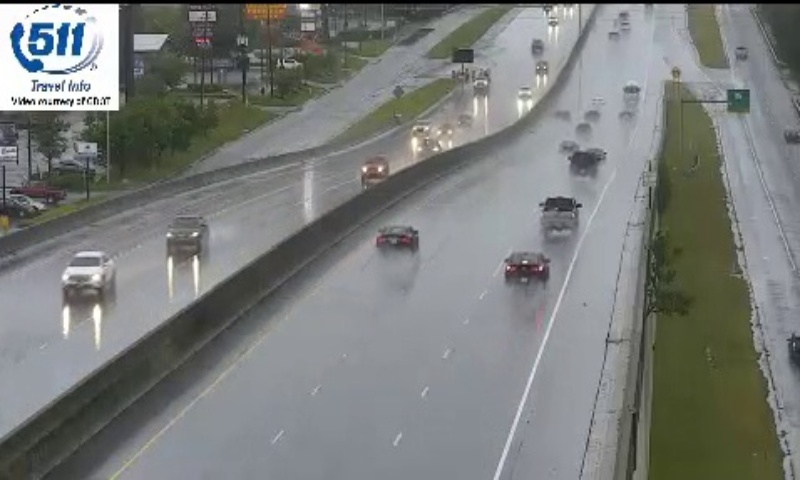car: (504, 251, 548, 285), (541, 196, 580, 232), (376, 224, 418, 252), (569, 150, 597, 177)
